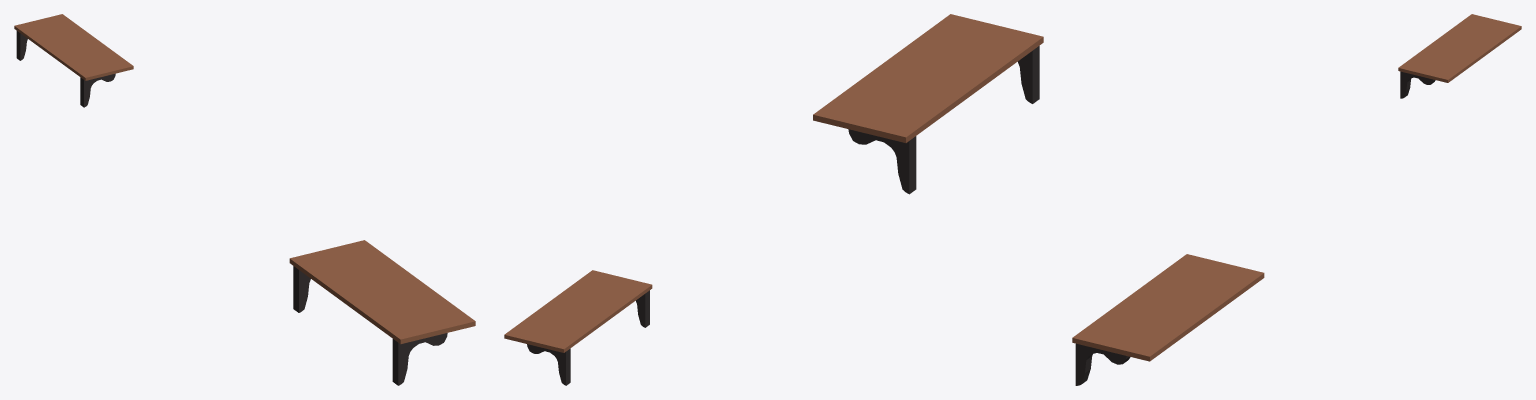
File: wallshelf_size.fbx
The picture shows the model from 3 angles, left to right: view 1: azimuth 30°, elevation 25°; view 2: azimuth 150°, elevation 25°; view 3: azimuth 330°, elevation 25°; orthographic projection. The views are drawn at different scales.
Visible parts, largest first — view 1: Cube.016, Cube.017; view 2: Cube.016, Cube.017; view 3: Cube.016, Cube.017.
Part boxes in pixels (x1,y1,x2,y2): Cube.016: [289, 240, 475, 385]; Cube.017: [14, 14, 133, 107]; Cube.016: [813, 14, 1043, 194]; Cube.017: [504, 270, 652, 385]; Cube.016: [1072, 254, 1264, 385]; Cube.017: [1398, 14, 1521, 98].
Bounding box in the file's own units: 90.2 × 90.86 × 804.
